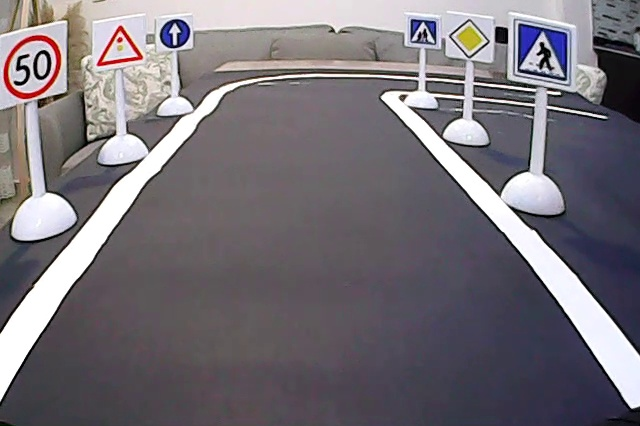pedestrian crossing: (510, 14, 575, 89)
red light: (96, 23, 147, 68)
school crossing: (407, 16, 440, 48)
speed limit 50: (3, 34, 69, 104)
